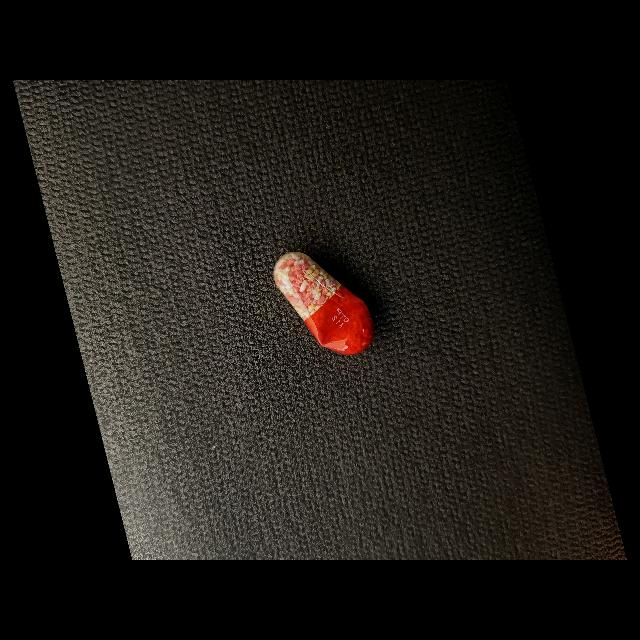Defective Capsule: (273, 252, 373, 355)
